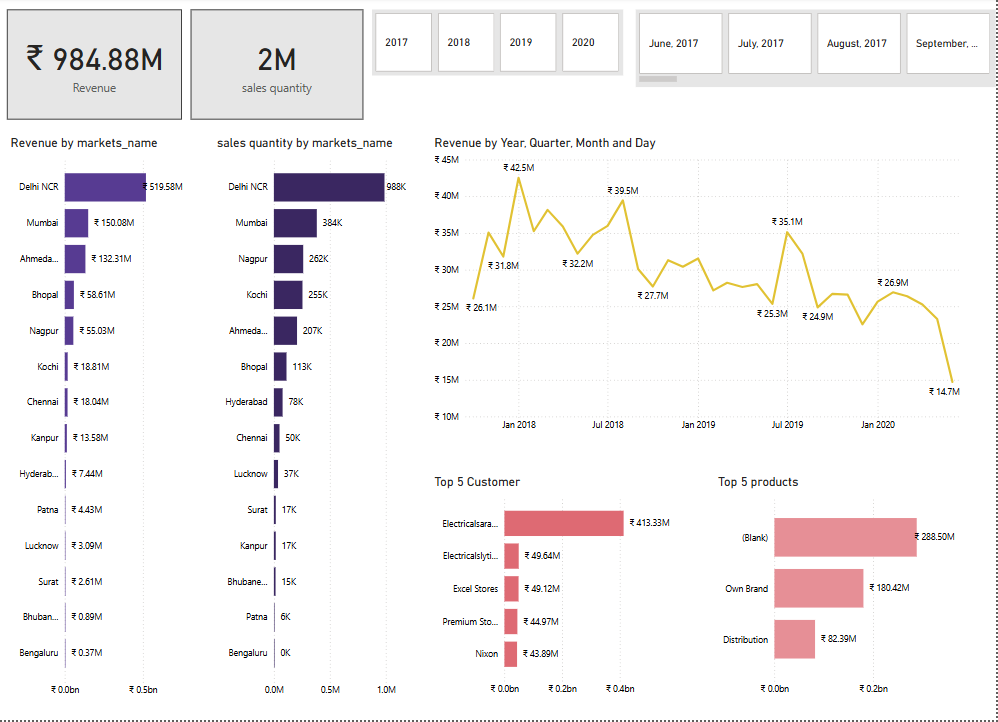

What the dashboard file says about the page in this screenshot:
{"tool":"powerbi","page":{"name":"key insights","canvas":[1380,1000],"ordinal":0},"visuals":[{"type":"card","fields":{"Values":["basemeasures.Revenue"]},"box":[13.8,17.3,241.9,152],"z":0},{"type":"card","fields":{"Values":["basemeasures.sales quantity"]},"box":[267.8,17.3,238.4,152],"z":1000},{"type":"barChart","fields":{"Y":["basemeasures.Revenue"],"Category":["sales markets.markets_name"]},"box":[13.8,191.8,267.8,784.4],"z":2000},{"type":"barChart","fields":{"Y":["basemeasures.sales quantity"],"Category":["sales markets.markets_name"]},"box":[298.9,191.8,285.1,784.4],"z":3000},{"type":"advancedSlicerVisual","fields":{"Values":["sales date.year"]},"box":[518.3,17.3,347.3,91.6],"z":4000},{"type":"advancedSlicerVisual","fields":{"Values":["sales date.cy_date"]},"box":[882.9,17.3,497.6,107.1],"z":5000},{"type":"barChart","title":"Top 5 Customer","fields":{"Category":["sales customers.custmer_name"],"Y":["basemeasures.Revenue"]},"box":[599.5,660,357.6,314.4],"z":6000},{"type":"barChart","title":"Top 5 products","fields":{"Category":["sales products.product_type"],"Y":["basemeasures.Revenue"]},"box":[992,660.1,356.9,314.7],"z":7000},{"type":"lineChart","fields":{"Y":["basemeasures.Revenue"],"Category":["sales date.cy_date.Variation.Date Hierarchy.Year","sales date.cy_date.Variation.Date Hierarchy.Quarter","sales date.cy_date.Variation.Date Hierarchy.Month","sales date.cy_date.Variation.Date Hierarchy.Day"]},"box":[598.7,191.9,750.3,418.3],"z":8000}]}

Visuals, with their boxes in screenshot pixels (x1, y1, x2, y2), scaled from the page's 1380x1000 canvas onto the 998x722 screenshot:
card - basemeasures.Revenue: 10,12,185,122
card - basemeasures.sales quantity: 194,12,366,122
barChart - basemeasures.Revenue x sales markets.markets_name: 10,138,204,705
barChart - basemeasures.sales quantity x sales markets.markets_name: 216,138,422,705
advancedSlicerVisual - sales date.year: 375,12,626,79
advancedSlicerVisual - sales date.cy_date: 639,12,997,90
"Top 5 Customer" barChart: 434,477,692,704
"Top 5 products" barChart: 717,477,976,704
lineChart - basemeasures.Revenue x sales date.cy_date.Variation.Date Hierarchy.Year: 433,139,976,441
